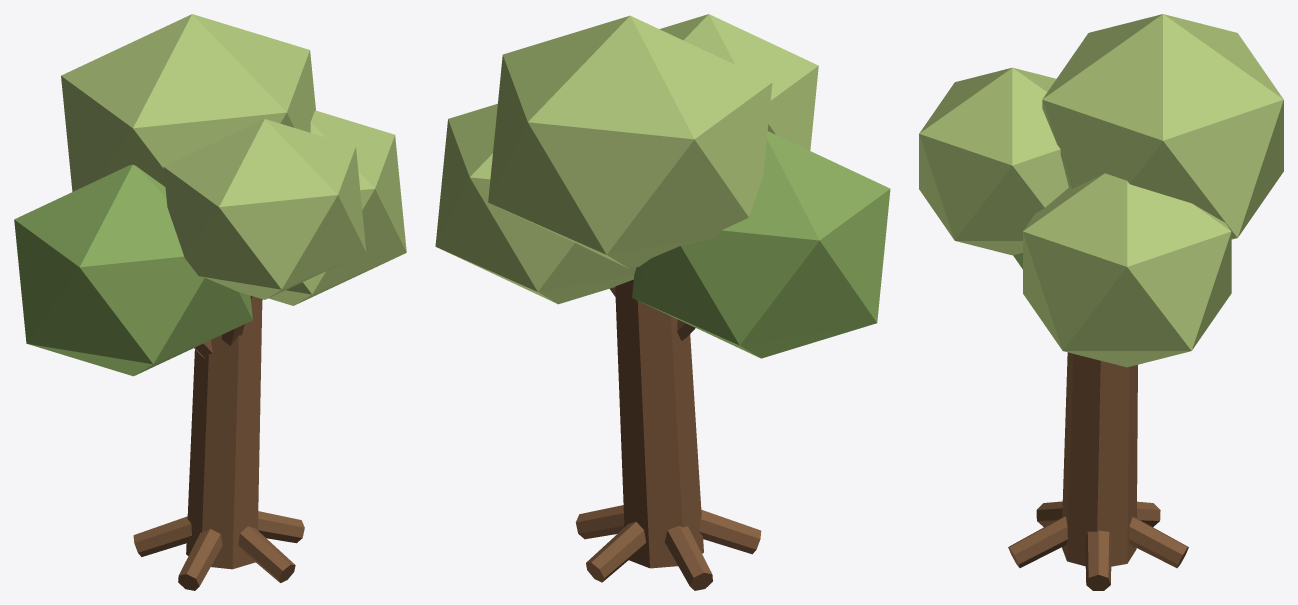
Rendered from CC_TreeBroadleaf.fbx.
The picture shows the model from 3 angles, left to right: view 1: azimuth 30°, elevation 25°; view 2: azimuth 150°, elevation 25°; view 3: azimuth 270°, elevation 25°; orthographic projection. The views are drawn at different scales.
Visible parts, largest first — view 1: Canopy, Canopy.002, Canopy.003, Trunk, Canopy.001, Root.004, Root.003, Root.002, Root; view 2: Canopy.002, Canopy, Trunk, Canopy.001, Canopy.003, Root.001, Root.002, Root.003, Root; view 3: Canopy.002, Canopy.001, Canopy.003, Trunk, Root.004, Root.001, Root, Root.003, Root.002.
Boxes of the visible parts, x1,y1,x2,y2 form: Canopy: (14, 164, 252, 376); Canopy.002: (61, 14, 315, 191); Canopy.003: (163, 119, 366, 299); Trunk: (186, 296, 262, 569); Canopy.001: (268, 110, 406, 305); Root.004: (238, 526, 295, 582); Root.003: (178, 529, 222, 590); Root.002: (133, 516, 191, 556); Root: (258, 511, 304, 543); Canopy.002: (488, 15, 772, 269); Canopy: (632, 131, 890, 358); Trunk: (615, 279, 703, 568); Canopy.001: (435, 103, 635, 304); Canopy.003: (659, 14, 818, 150); Root.001: (586, 522, 645, 582); Root.002: (665, 526, 712, 590); Root.003: (699, 509, 761, 554); Root: (575, 505, 624, 539); Canopy.002: (1042, 14, 1283, 239); Canopy.001: (1023, 173, 1231, 367); Canopy.003: (919, 67, 1068, 255); Trunk: (1062, 352, 1137, 566); Root.004: (1008, 516, 1068, 567); Root.001: (1128, 517, 1188, 568); Root: (1085, 530, 1111, 590); Root.003: (1036, 501, 1062, 526); Root.002: (1137, 501, 1160, 526).
Bounding box in the file's own units: 3.19 × 4.16 × 2.54.
